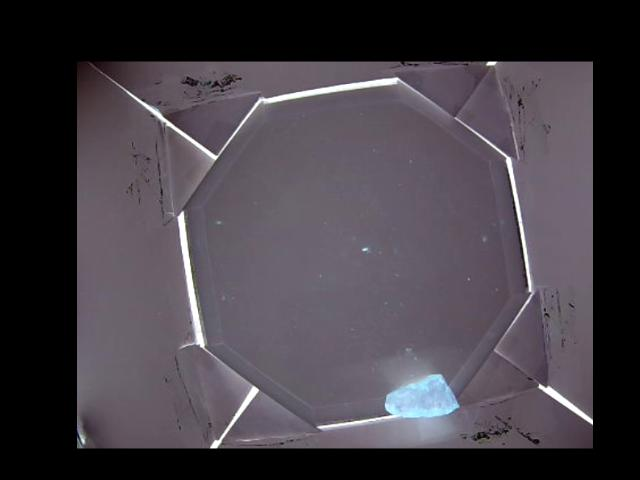Brisk: (386, 375, 457, 417)
